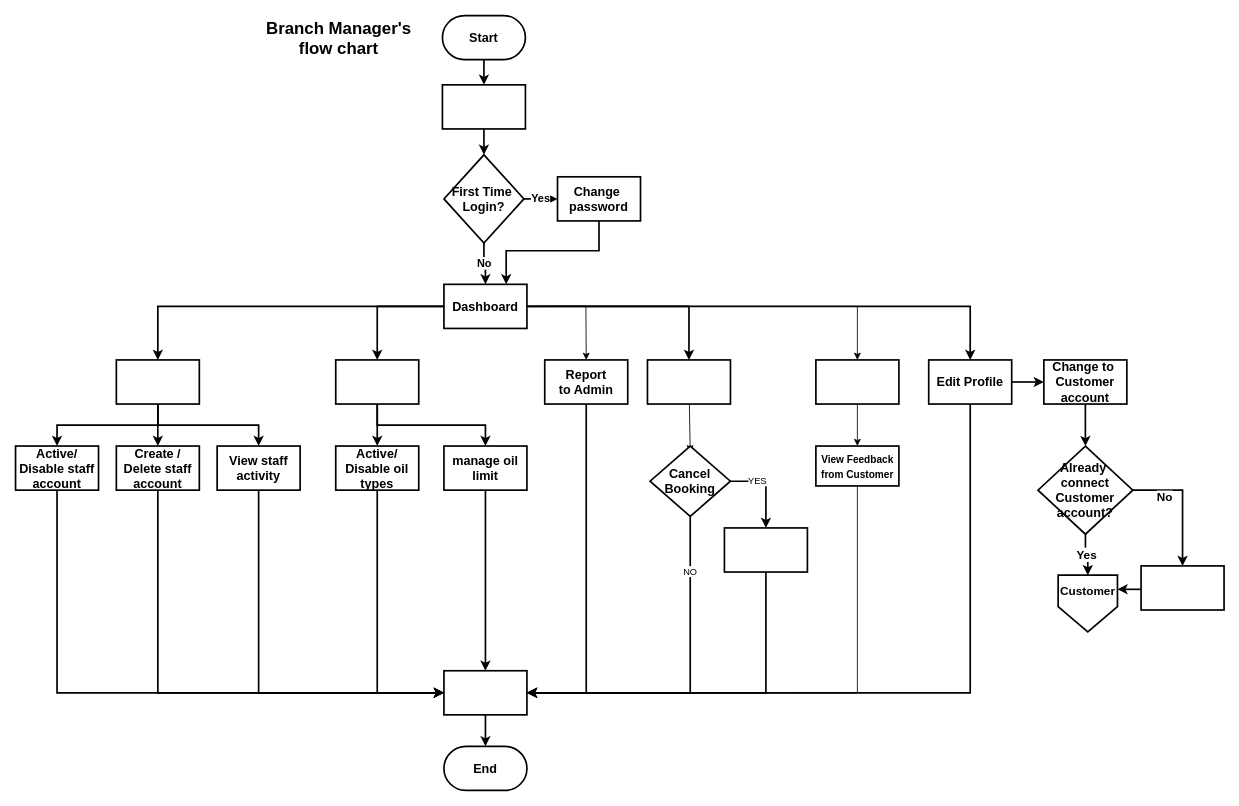
Image size: 1239x806. Some labels were removed from this diagram. The shapes that lost their labels are listed below. From the top down, each one's centre as x and y in pixels, then its label:
At (483,106): "Login".
At (157,381): "Manage Staff".
At (376,381): "Manage Oil".
At (688,381): "Monitor & manage Booking slot".
At (857,381): "View Customer".
At (765,549): "Notification".
At (1182,587): "Connect Customer account".
At (485,692): "Logout".
